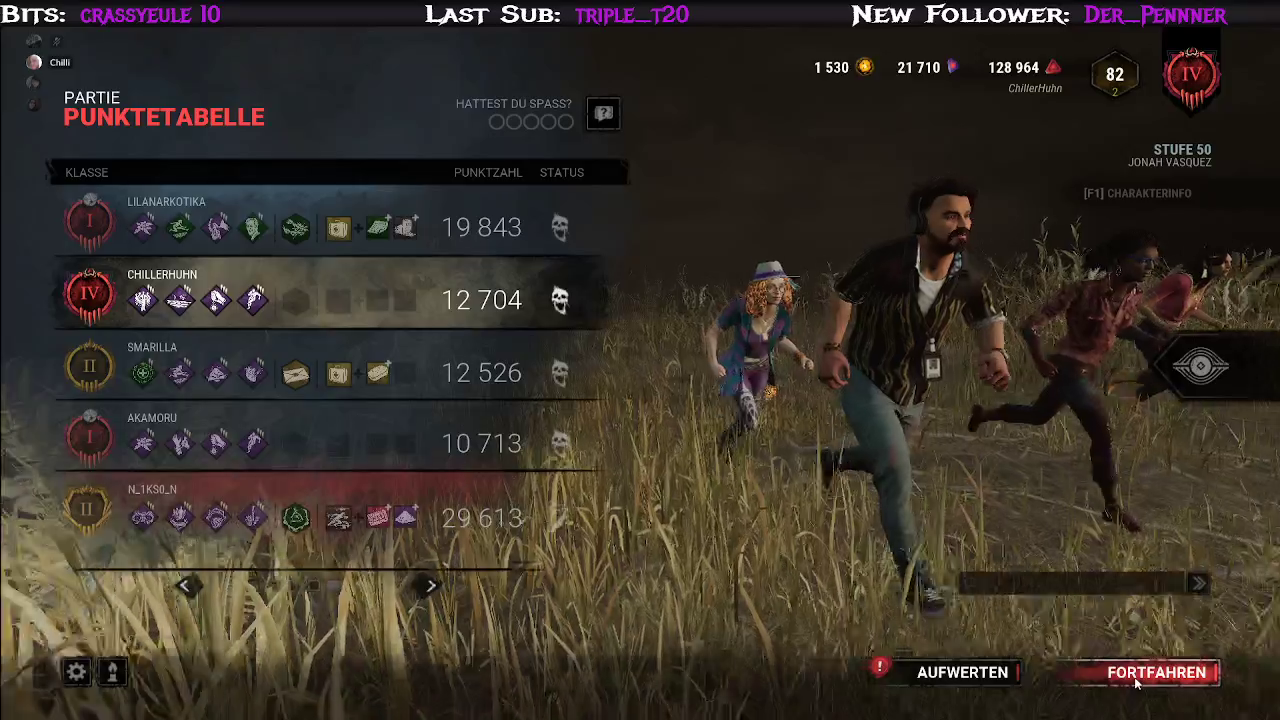adrenaline: (237, 357, 269, 389)
bbq_and_chilli: (164, 501, 196, 533)
borrowed_time: (200, 285, 232, 317), (200, 428, 232, 460)
botany_knowledge: (127, 212, 159, 244), (126, 428, 158, 460)
circle_of_healing: (126, 357, 158, 389)
corrupt_intervention: (200, 501, 232, 533)
dead_hard: (237, 285, 269, 317), (238, 428, 270, 460)
discordance: (237, 501, 269, 533)
flip_flop: (237, 212, 269, 244)
for_the_people: (201, 212, 233, 244)
iron_will: (201, 357, 233, 389)
lightborn: (126, 501, 158, 533)
lithe: (164, 212, 196, 244), (163, 357, 195, 389)
prove_thyself: (126, 285, 158, 317)
self_care: (163, 428, 195, 460)
windows_of_opportunity: (164, 285, 196, 317)
